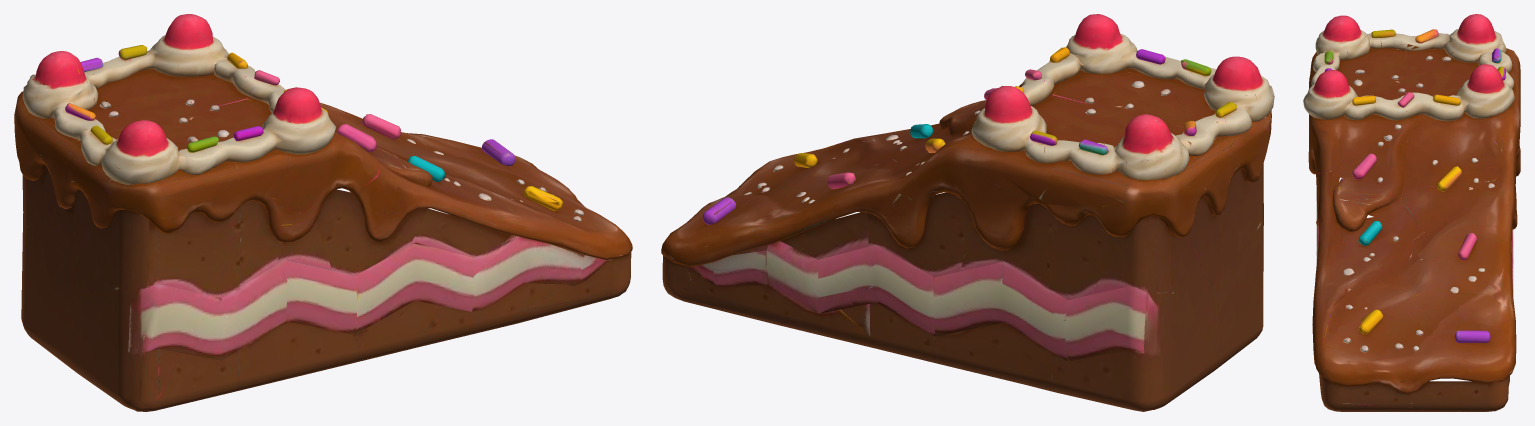
The model's file is chocolate_slope.glb.
3 renders of one model, left to right at view 1: azimuth 30°, elevation 25°; view 2: azimuth 150°, elevation 25°; view 3: azimuth 270°, elevation 25°, orthographic. The views are drawn at different scales.
Size of what is drawn, in the model's own units: 1.89 by 1 by 0.8851.
1 material, 1 textured.
